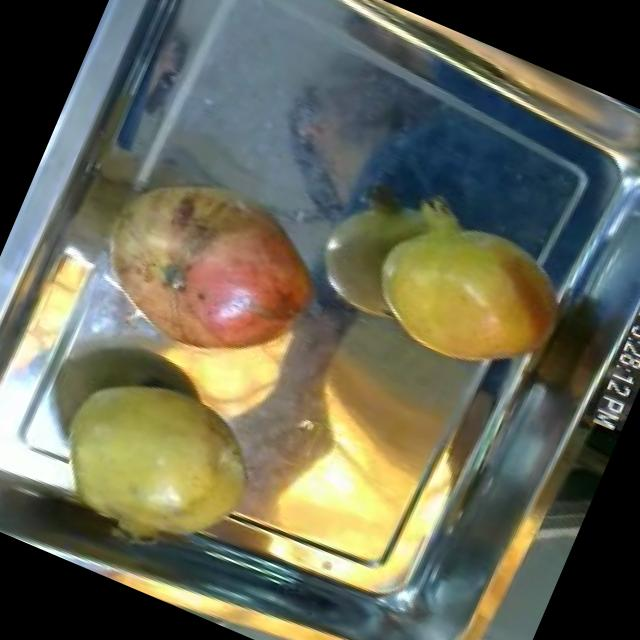fruit: (60, 136, 358, 401), (18, 340, 292, 584), (344, 180, 596, 404)
